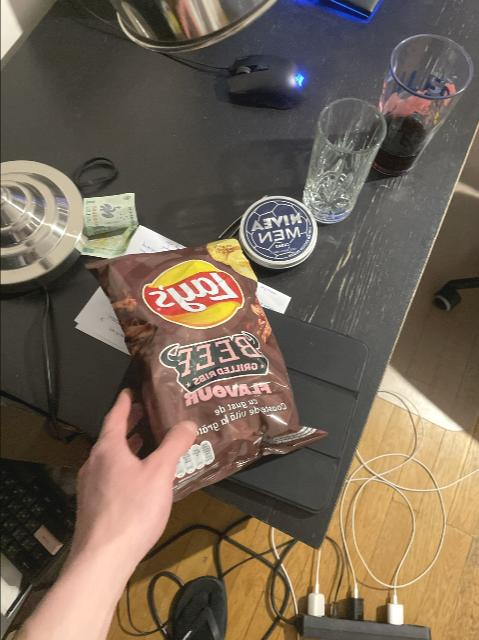Lays Beef Grilled Ribs 125g: (94, 238, 326, 504)
